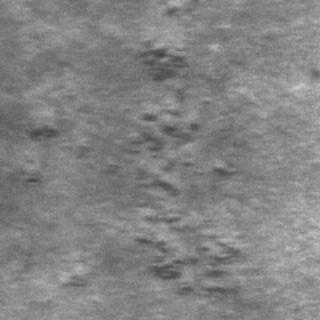rolled pit: (21, 103, 243, 195), (58, 198, 238, 298), (133, 37, 189, 97)
